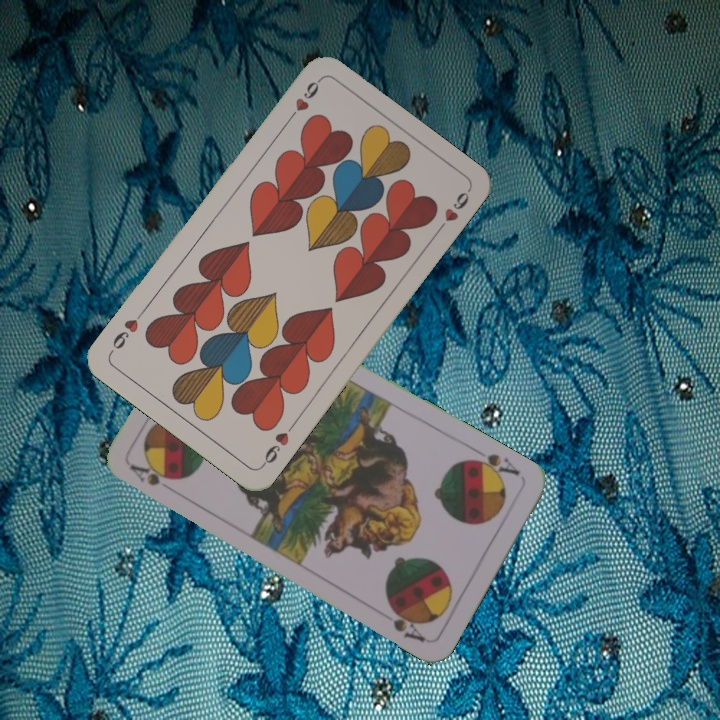H9: (257, 419, 298, 470), (282, 75, 323, 126)
SA: (465, 449, 522, 483), (125, 460, 176, 489)
